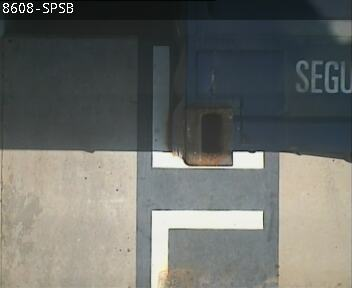groundmarker_1: (149, 44, 262, 288)
